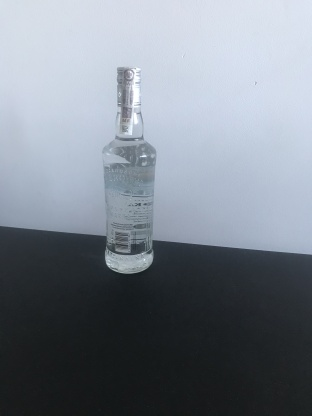nakretka: (114, 62, 144, 110)
